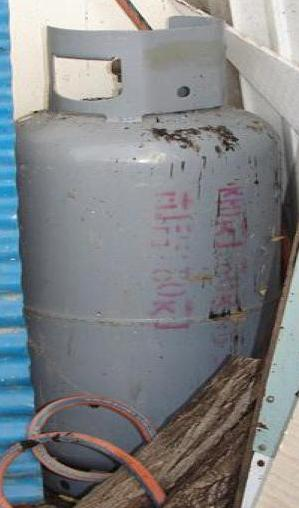cylinder: (1, 1, 299, 508)
